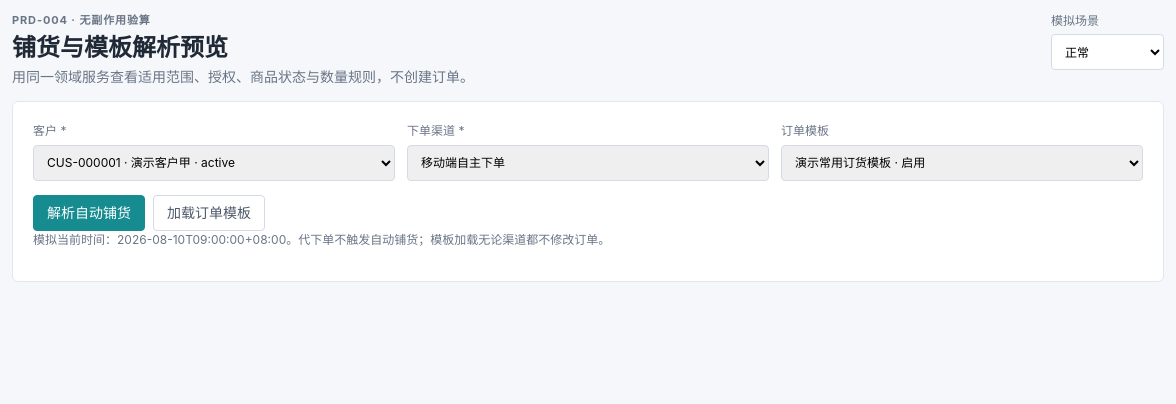
Scenario: PRD-004 distribution workspace views › previews accepted and rejected suggestion sections
What coordinates should you click on to do the following:
click the button "解析自动铺货"
I would click on:
 (89, 213)
Its box is [33,195,145,231].
Wait 120 ms
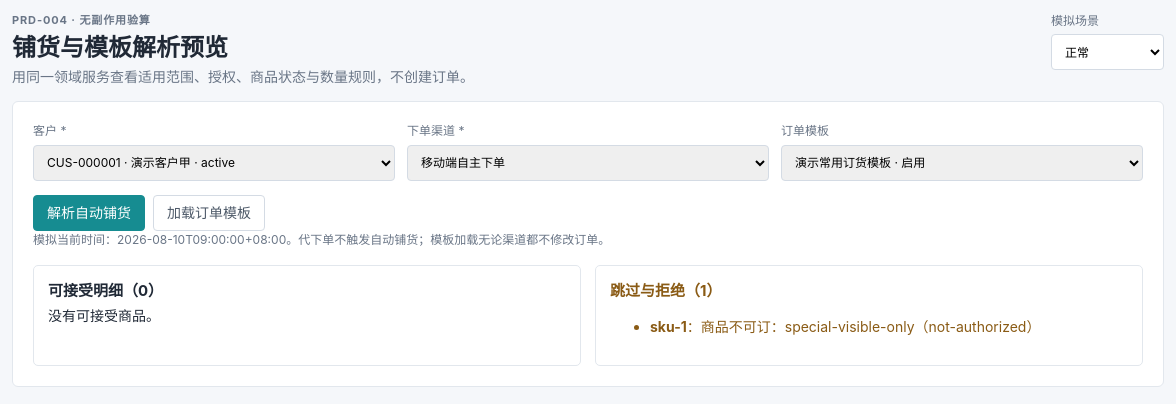
Check: the text "可接受明细" is shown, box [48,281,163,300]
Check: the text "跳过与拒绝" is shown, box [610,281,722,300]
